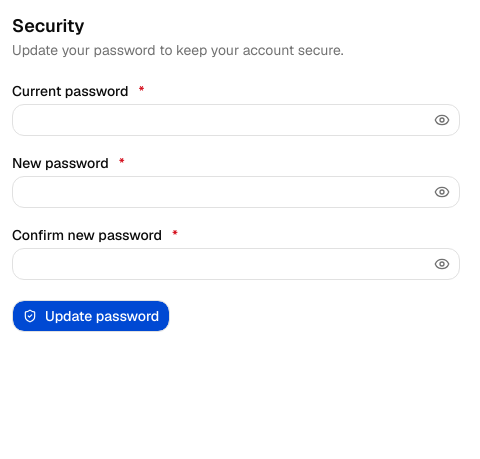
Test: SecuritySettingsPage › strength meter shows 'Strong' for a fully compliant password
Type "Secure123" into the password field labelled "New password" at coordinates (236, 192), box left=12, top=176, right=460, bottom=208
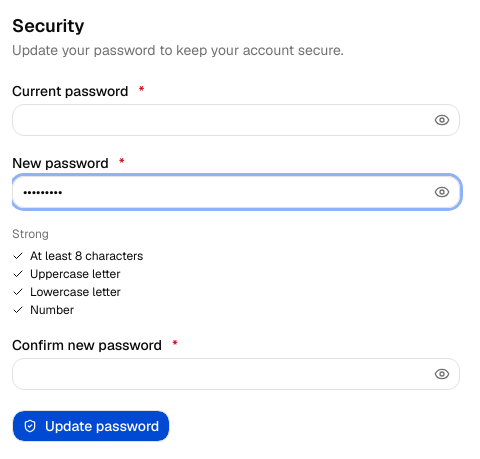
Check: the text "Strong" is shown, box left=12, top=226, right=49, bottom=242
